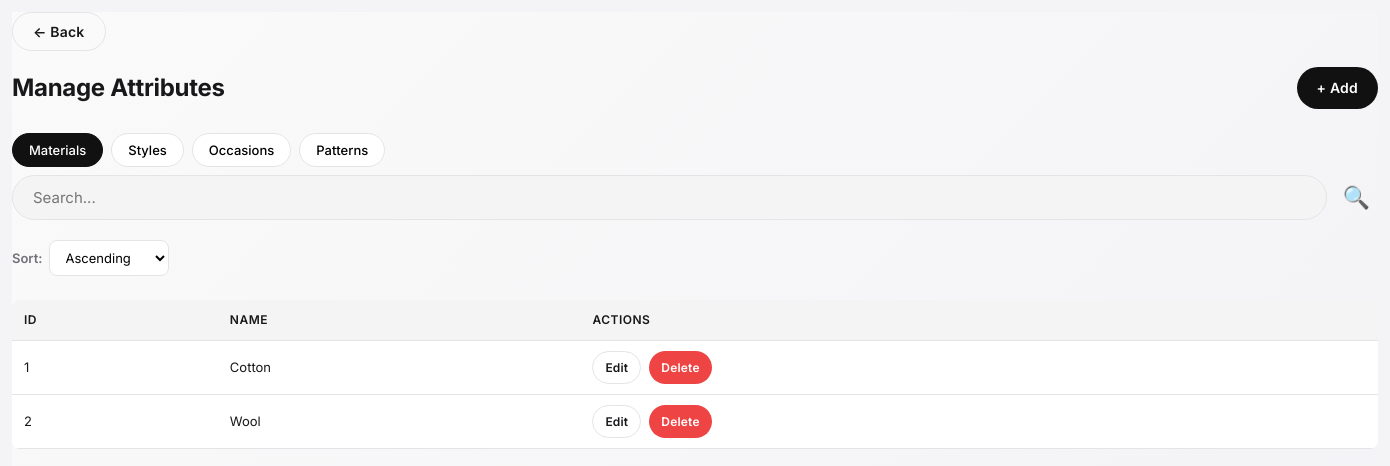
AdminAttributes › Tabs › should switch to patterns tab
Click the button "Patterns" at (342, 150), box [299,133,385,167]
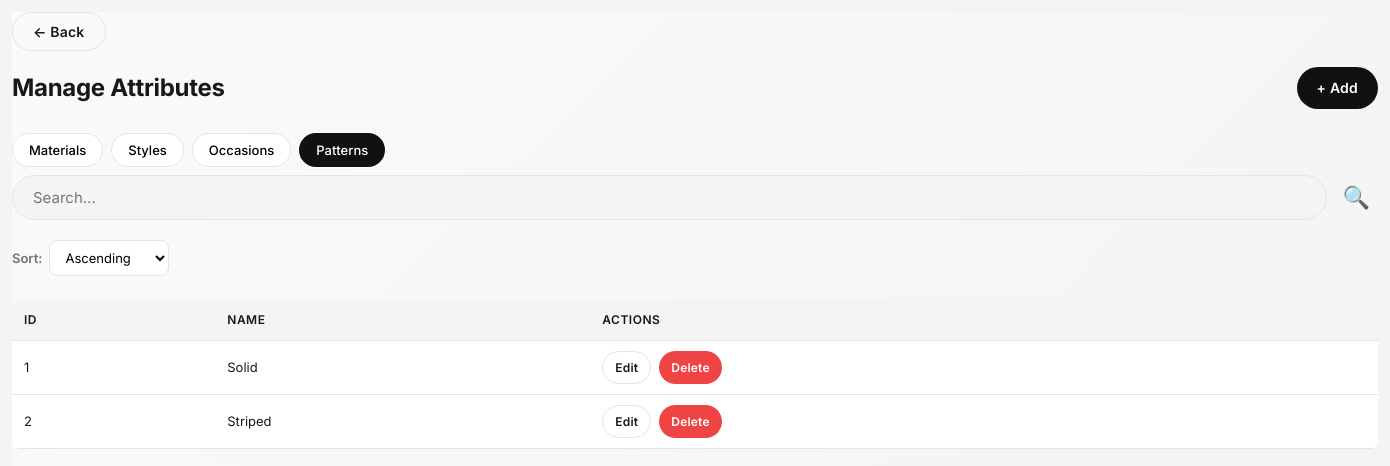
Expected: the link "Solid" is shown, [227,359,258,375]
Expected: the link "Striped" is shown, [227,413,272,429]
